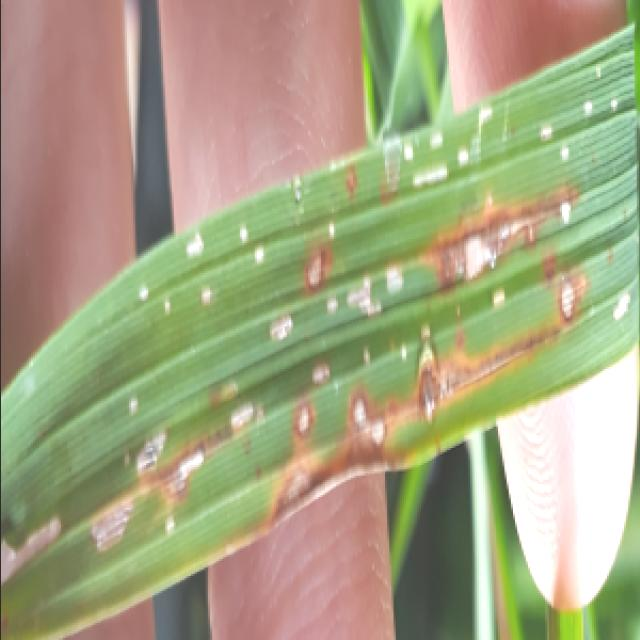Brown_Spot: (280, 180, 580, 393)
